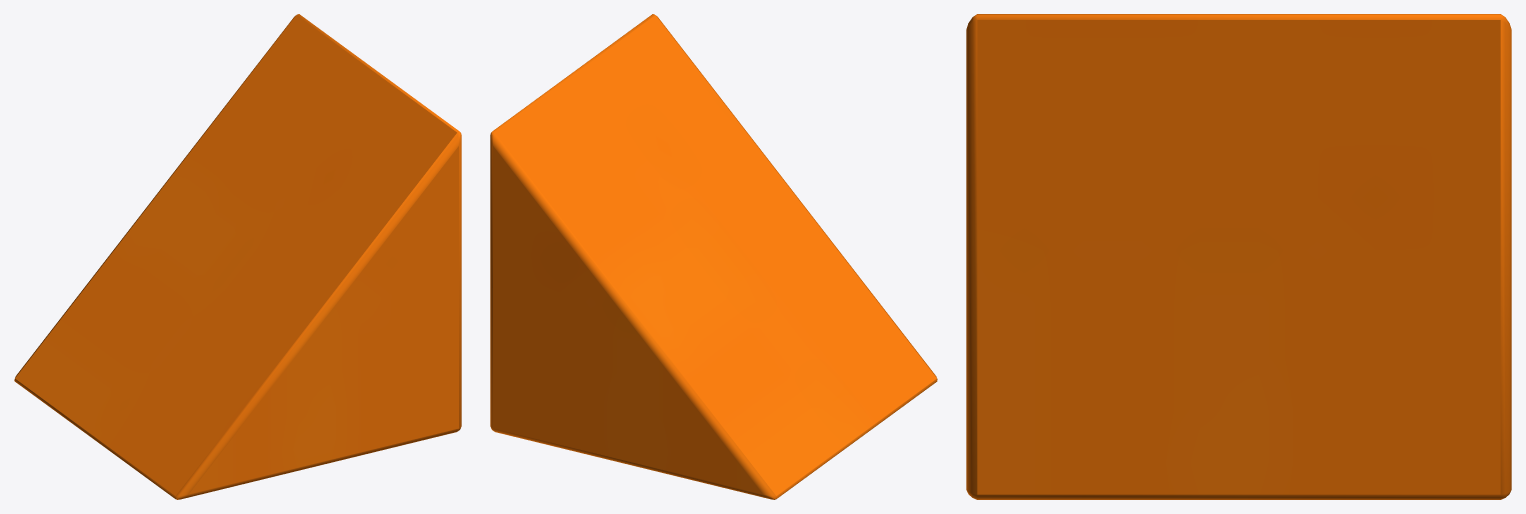
File: WedgeYellow.fbx
3 renders of one model, left to right at view 1: azimuth 30°, elevation 25°; view 2: azimuth 150°, elevation 25°; view 3: azimuth 270°, elevation 25°, orthographic. The views are drawn at different scales.
Parts seen in each view (by area): view 1: Wedge; view 2: Wedge; view 3: Wedge.
Boxes of the visible parts, x1=… form: Wedge: x1=14, y1=14, x2=461, y2=499; Wedge: x1=490, y1=14, x2=937, y2=499; Wedge: x1=966, y1=14, x2=1511, y2=499.
Size of the model in its own units: 1.97 by 1.97 by 2.
